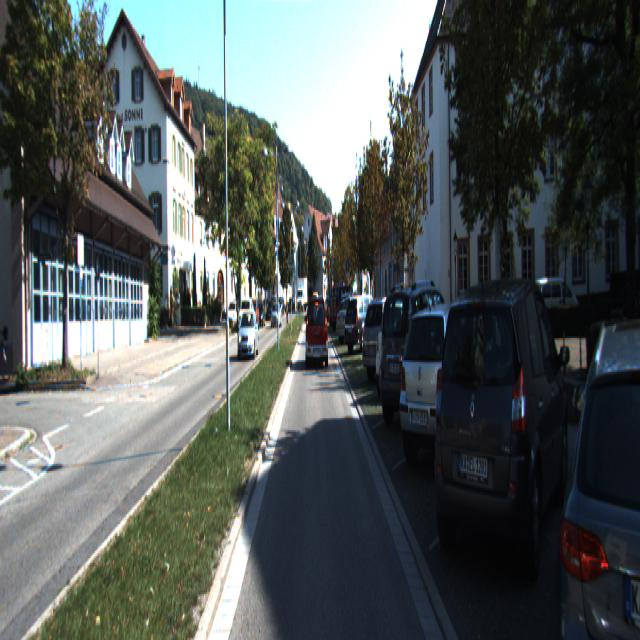Car: (432, 280, 573, 609), (550, 319, 640, 638), (393, 296, 508, 486), (375, 285, 465, 435), (372, 300, 438, 407), (359, 297, 424, 382), (344, 294, 389, 352), (336, 296, 372, 342), (306, 298, 329, 369), (329, 288, 359, 332), (238, 311, 260, 360), (238, 300, 254, 336), (270, 303, 282, 328), (227, 300, 237, 328)
